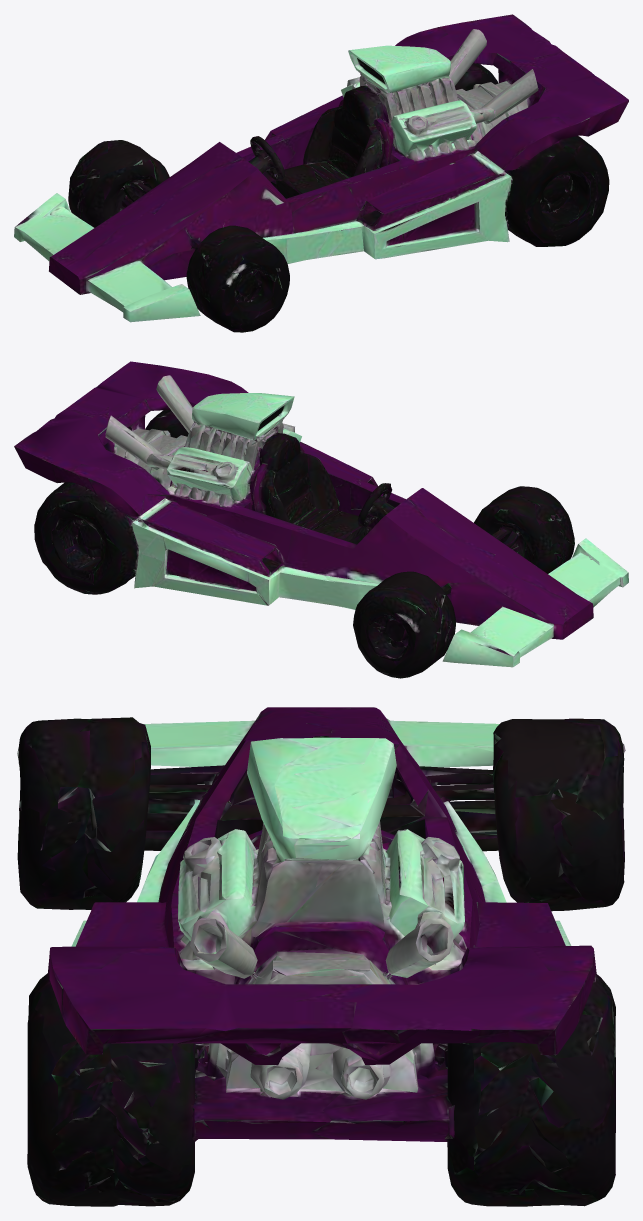
File: hash-runner.glb
3 views of the same model, one above another, from view 1: azimuth 30°, elevation 25°; view 2: azimuth 150°, elevation 25°; view 3: azimuth 270°, elevation 25° (orthographic). The views are drawn at different scales.
Size of the model in its own units: 1.9 by 0.6199 by 0.9885.
Materials: 1 (1 with a texture image).
